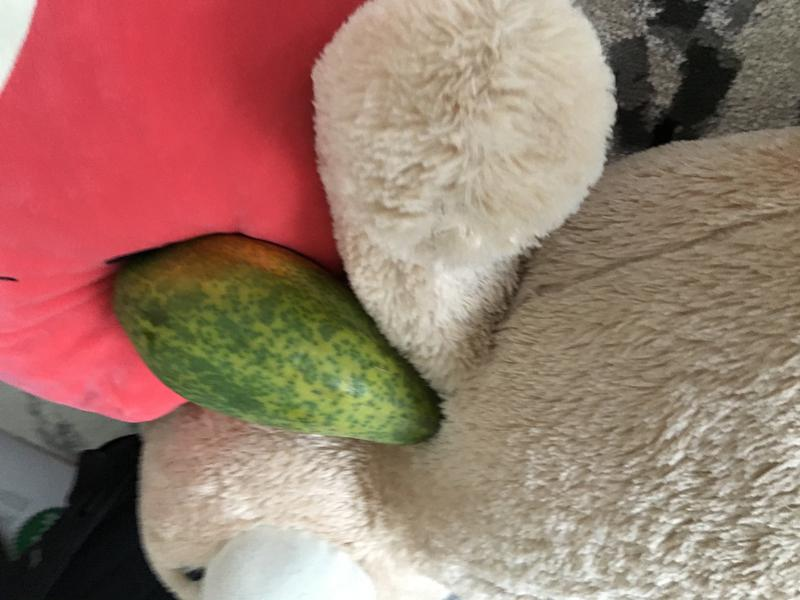papaya: (107, 230, 462, 459)
